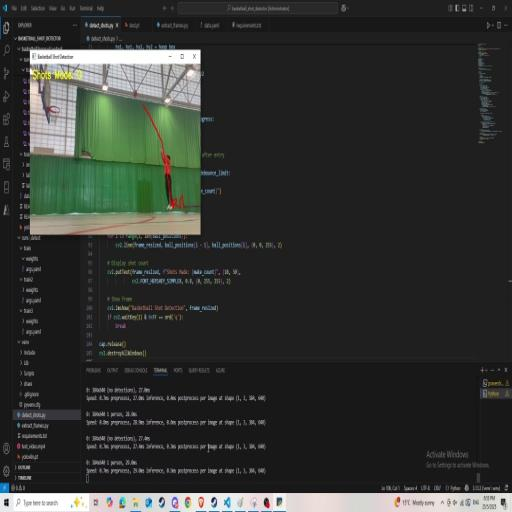hoops: (48, 103, 61, 125)
